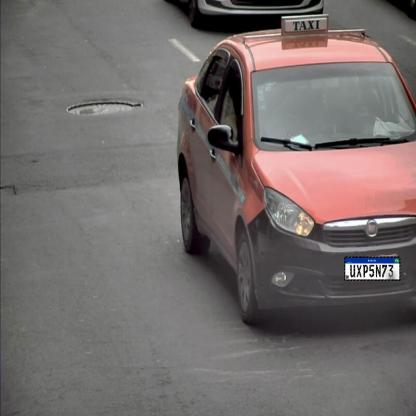PlacaM: (344, 256, 400, 281)
